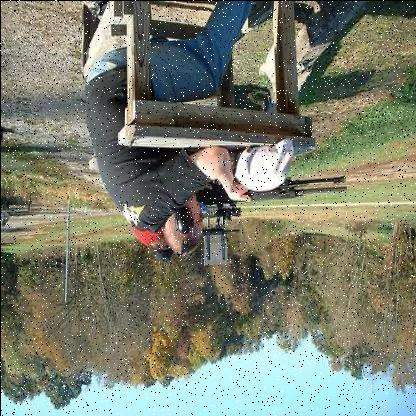rifle: (184, 163, 356, 223)
